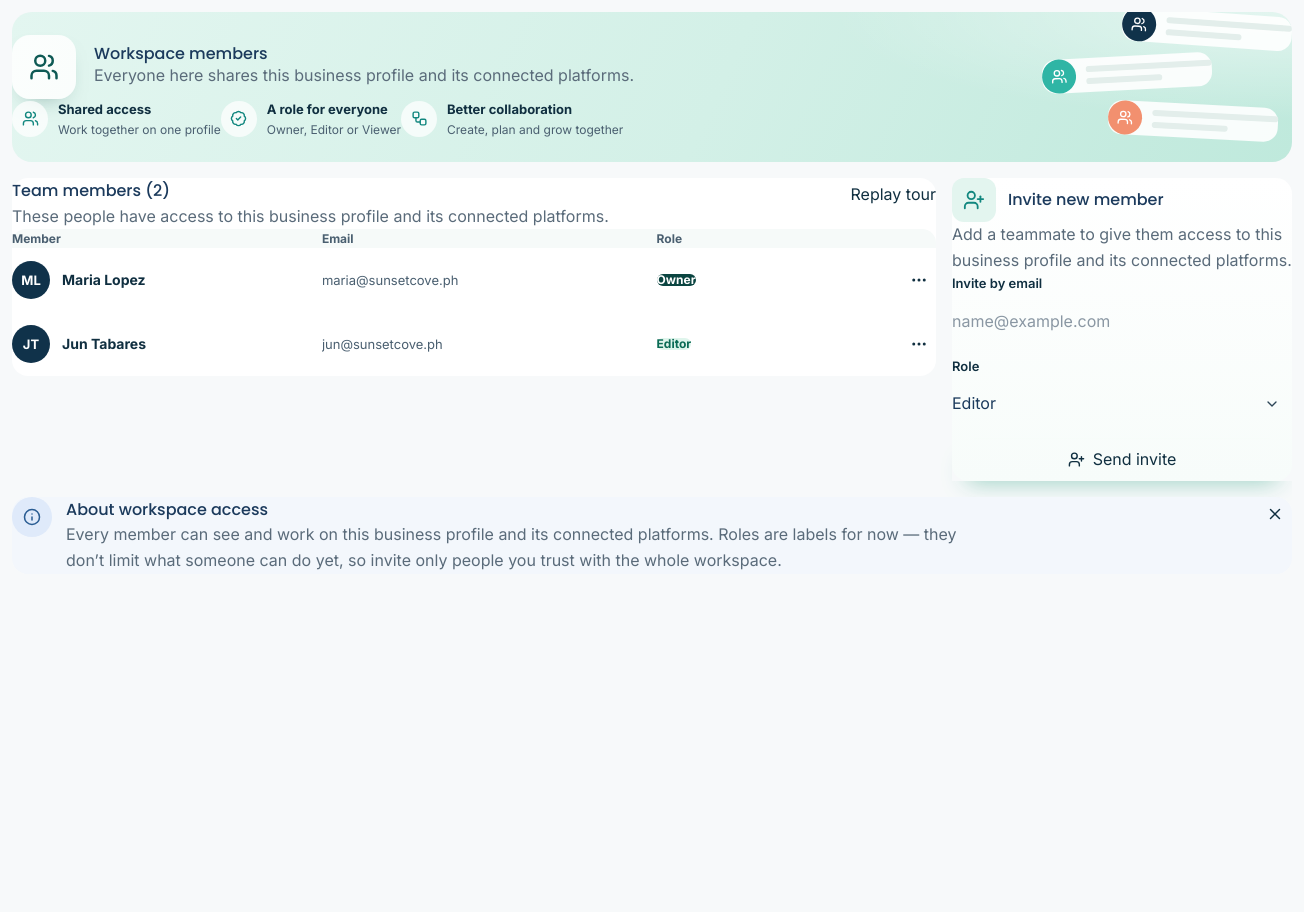
it: WorkspaceSettings › each row has a menu that copies the member email
Expected: the text "Maria Lopez" is shown, [62,269,146,292]
Click the button named "More actions for Jun Tabares".
click(919, 344)  # box [902,327,936,361]
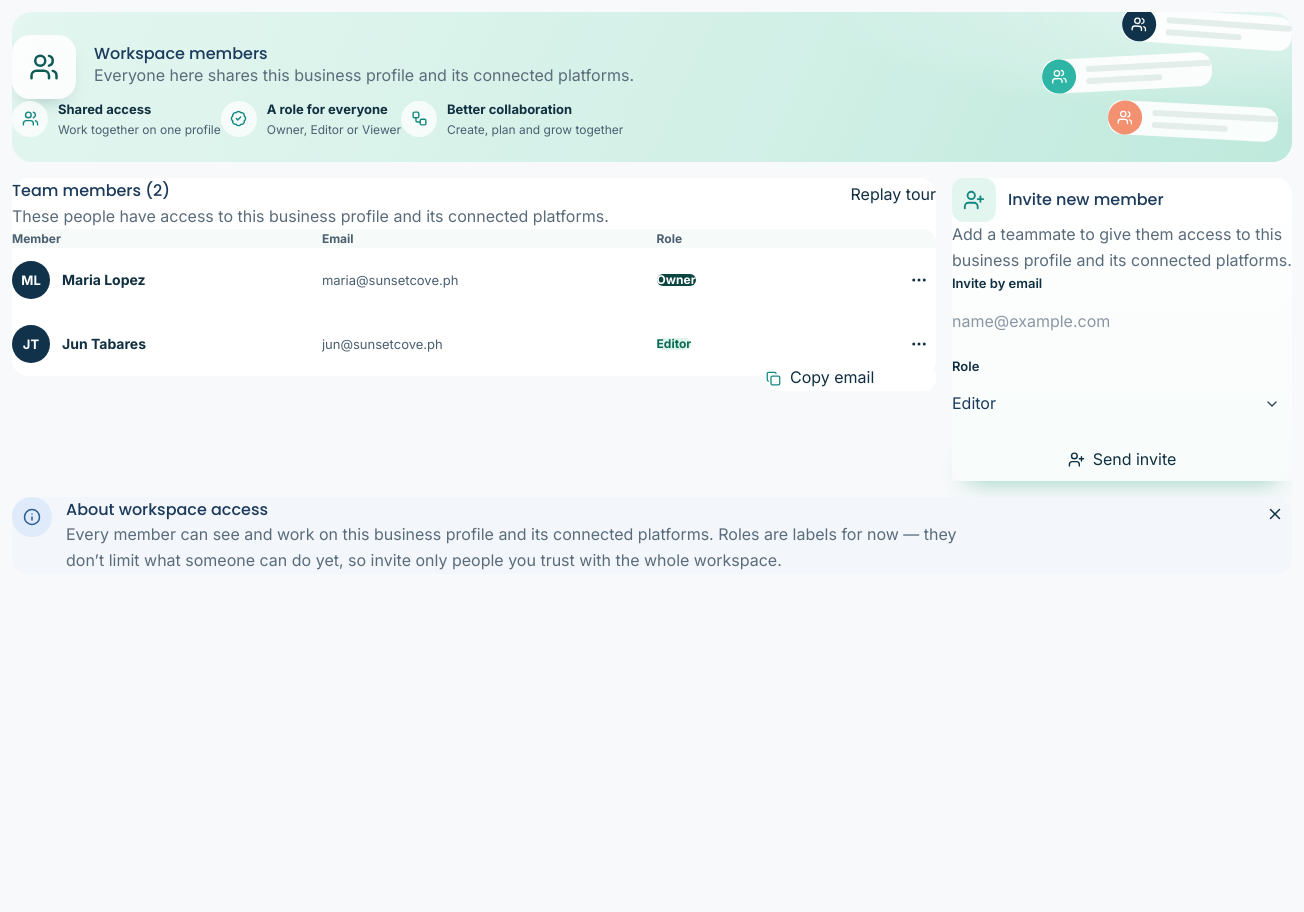
Click the menu item "Copy email".
click(851, 378)  # box [766,365,936,391]
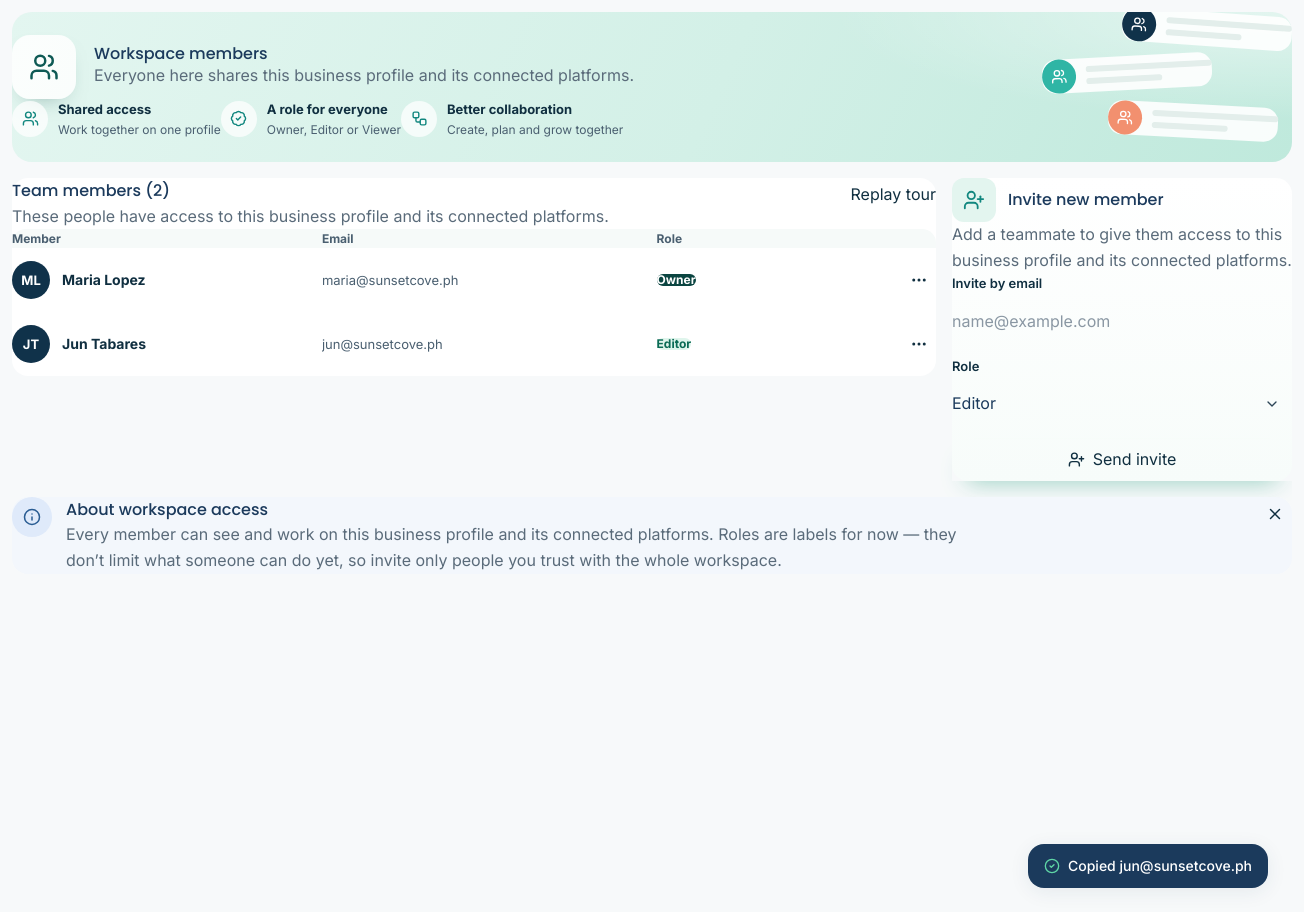
Expected: the text "Copied jun@sunsetcove.ph" is shown, [1068,856,1252,876]
